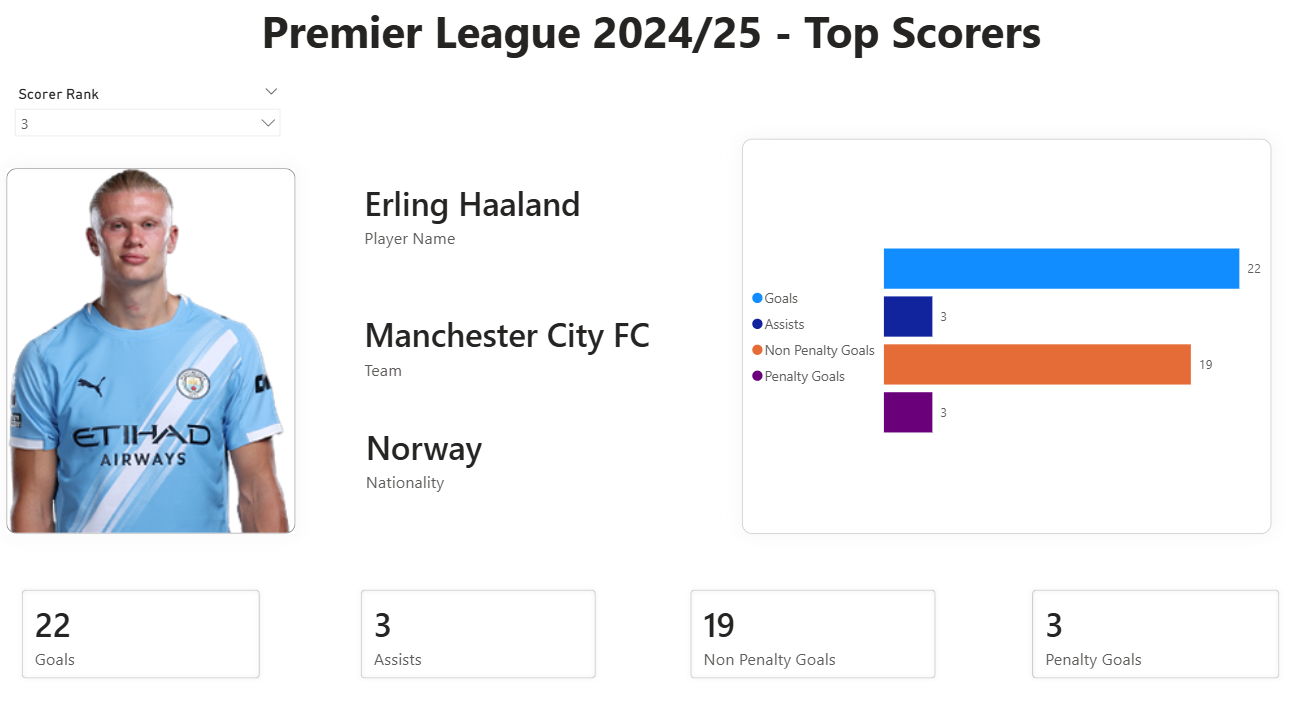

The dashboard page shown, as its layout file describes it:
{"tool":"powerbi","page":{"name":"3 - Top Scorers ","canvas":[1280,720],"ordinal":2},"visuals":[{"type":"slicer","fields":{"Values":["scorers.rank"]},"box":[8.1,95.3,279.7,72.1],"z":0},{"type":"cardVisual","fields":{"Data":["Sum(scorers.goals)"]},"box":[0,570.5,281.4,135.7],"z":1000},{"type":"cardVisual","fields":{"Data":["Sum(scorers.assists)"]},"box":[331.9,570.5,278.6,135.7],"z":2000},{"type":"cardVisual","fields":{"Data":["Sum(scorers.penalties)"]},"box":[988.6,570.5,290.1,135.7],"z":3000},{"type":"cardVisual","fields":{"Data":["Min(scorers.player_name)"]},"box":[330.5,176.1,385.4,103.9],"z":4000},{"type":"cardVisual","fields":{"Data":["Sum(scorers.non_pen_goals)"]},"box":[653.8,570.5,288.7,135.7],"z":5000},{"type":"image","box":[8.6,181.6,282.6,357.5],"z":6000},{"type":"cardVisual","fields":{"Data":["Min(scorers.team)"]},"box":[330.5,301.6,385.4,109.7],"z":7000},{"type":"cardVisual","fields":{"Data":["Min(scorers.nationality)"]},"box":[332,411.3,383.9,109.7],"z":8000},{"type":"textbox","box":[0,13,1280.2,70.7],"z":9000},{"type":"clusteredBarChart","title":"Player Stats","fields":{"Y":["Sum(scorers.goals)","Sum(scorers.assists)","Sum(scorers.non_pen_goals)","Sum(scorers.penalties)"],"Category":["scorers.player_name"]},"box":[728.9,153,518.1,386.8],"z":10000}]}

Visuals, with their boxes in screenshot pixels (x1, y1, x2, y2), scaled from the page's 1280x720 canvas onto the 1289x704 screenshot:
slicer - scorers.rank: box(8, 93, 290, 164)
cardVisual - Sum(scorers.goals): box(0, 558, 283, 691)
cardVisual - Sum(scorers.assists): box(334, 558, 615, 691)
cardVisual - Sum(scorers.penalties): box(996, 558, 1288, 691)
cardVisual - Min(scorers.player_name): box(333, 172, 721, 274)
cardVisual - Sum(scorers.non_pen_goals): box(658, 558, 949, 691)
image: box(9, 178, 293, 527)
cardVisual - Min(scorers.team): box(333, 295, 721, 402)
cardVisual - Min(scorers.nationality): box(334, 402, 721, 509)
textbox: box(0, 13, 1288, 82)
"Player Stats" clusteredBarChart: box(734, 150, 1256, 528)
